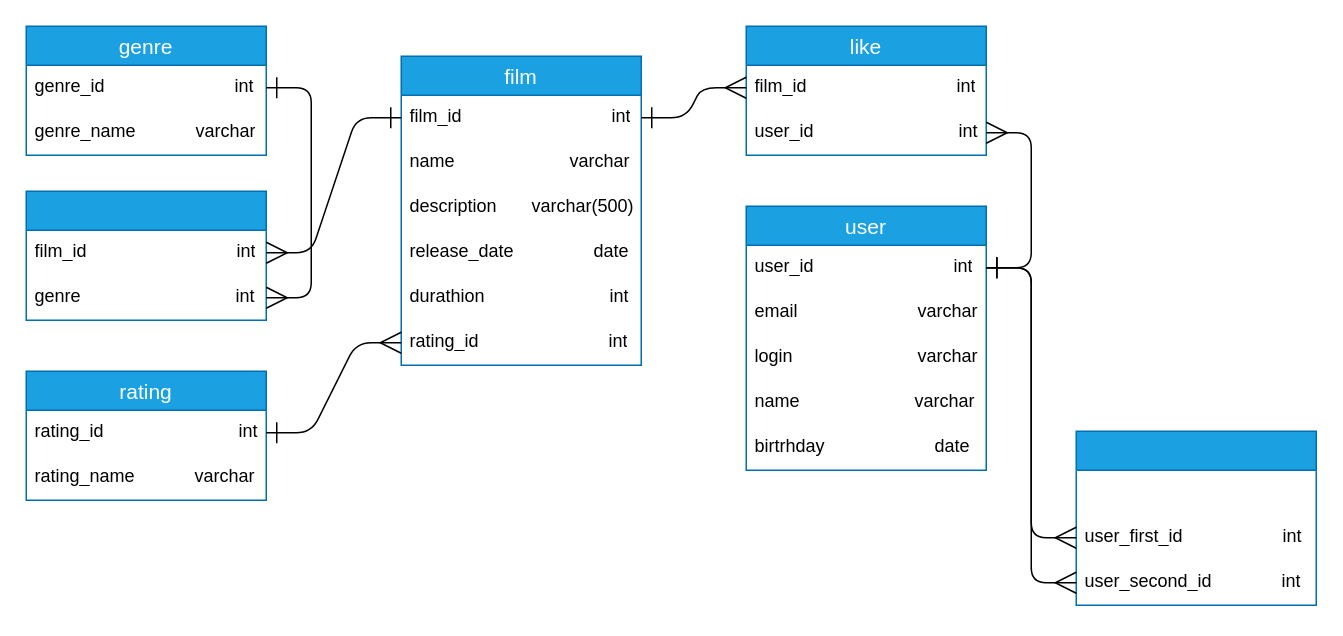
The diagram is 1343 pixels wide and 636 high, and some of its shapes have lost their labels. The shapes that lost their labels are listed below. From the top down, each one's box as (x1, y1, x2, y2) in pixels, then its label:
(25, 190, 266, 320): film_genre
(1075, 430, 1316, 605): frendship
